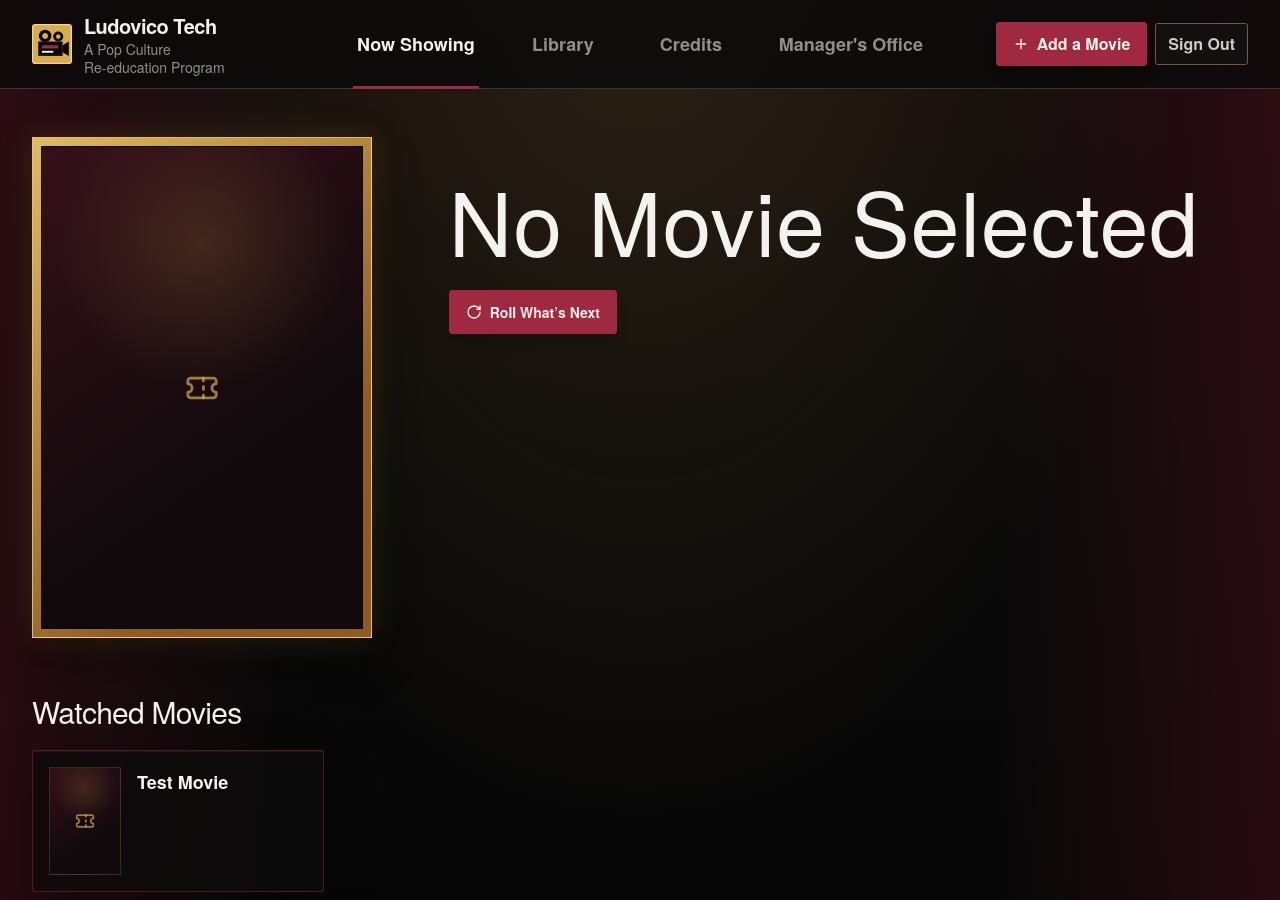
it: application authorization presentation › keeps add-movie failures visible and dismissible above the open dialog
The width and height of the screenshot is (1280, 900).
Click the button "Add a Movie" at [1072, 44], box [996,22,1147,66]
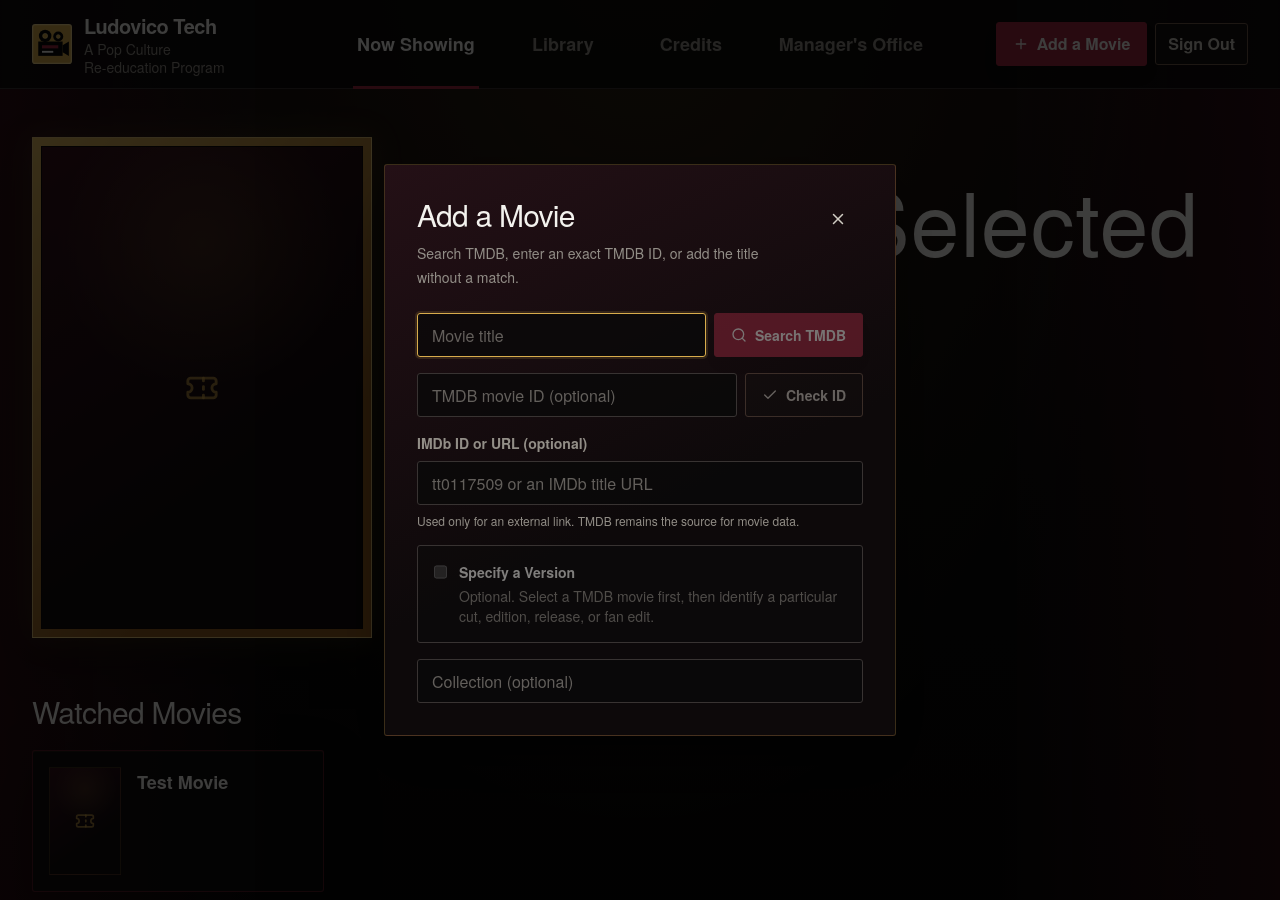
Type "Existing TMDB Movie" into the field labelled "Movie title" at [562, 335], box [417,313,706,357]
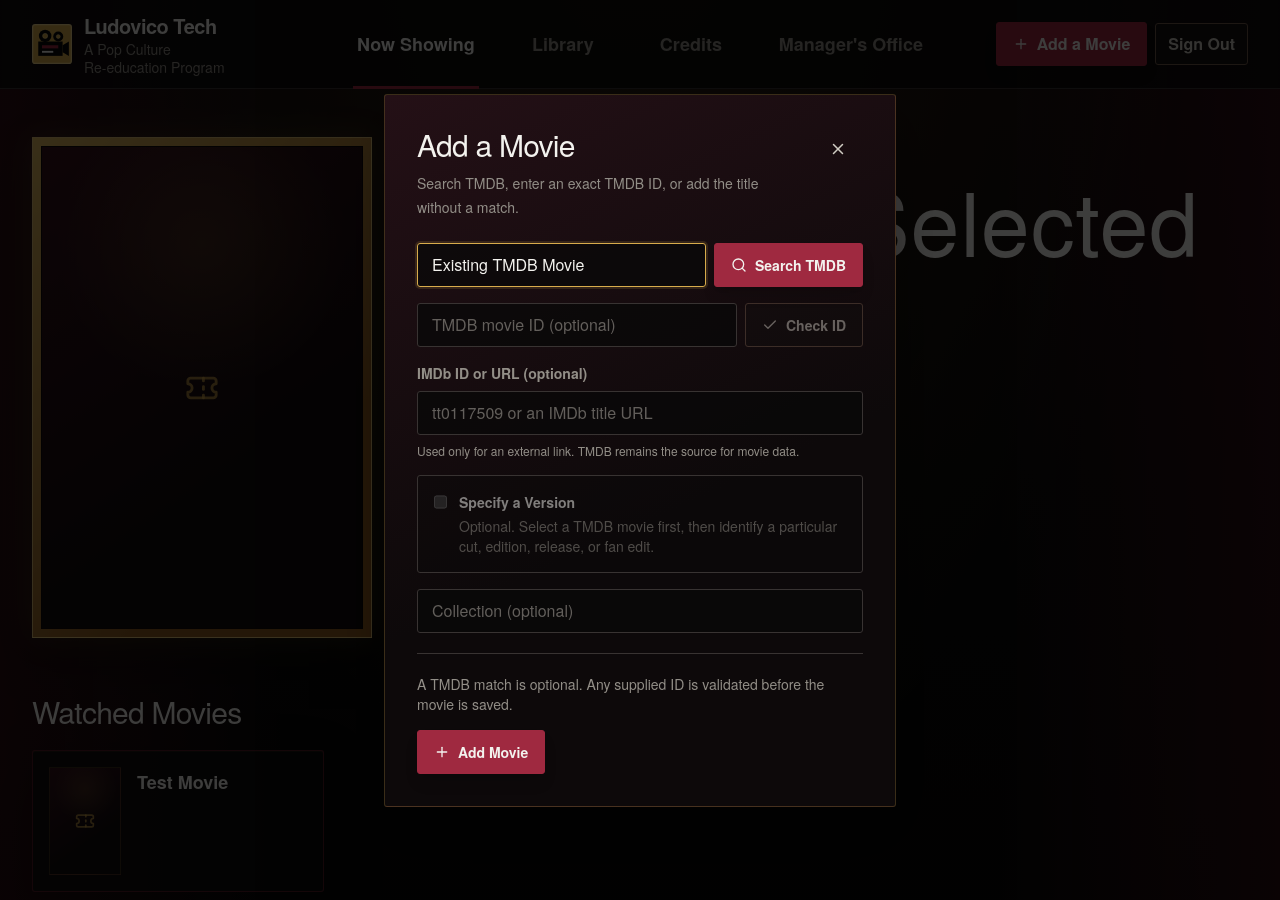
Click the button "Add Movie" at [481, 752], box [417,730,545,774]
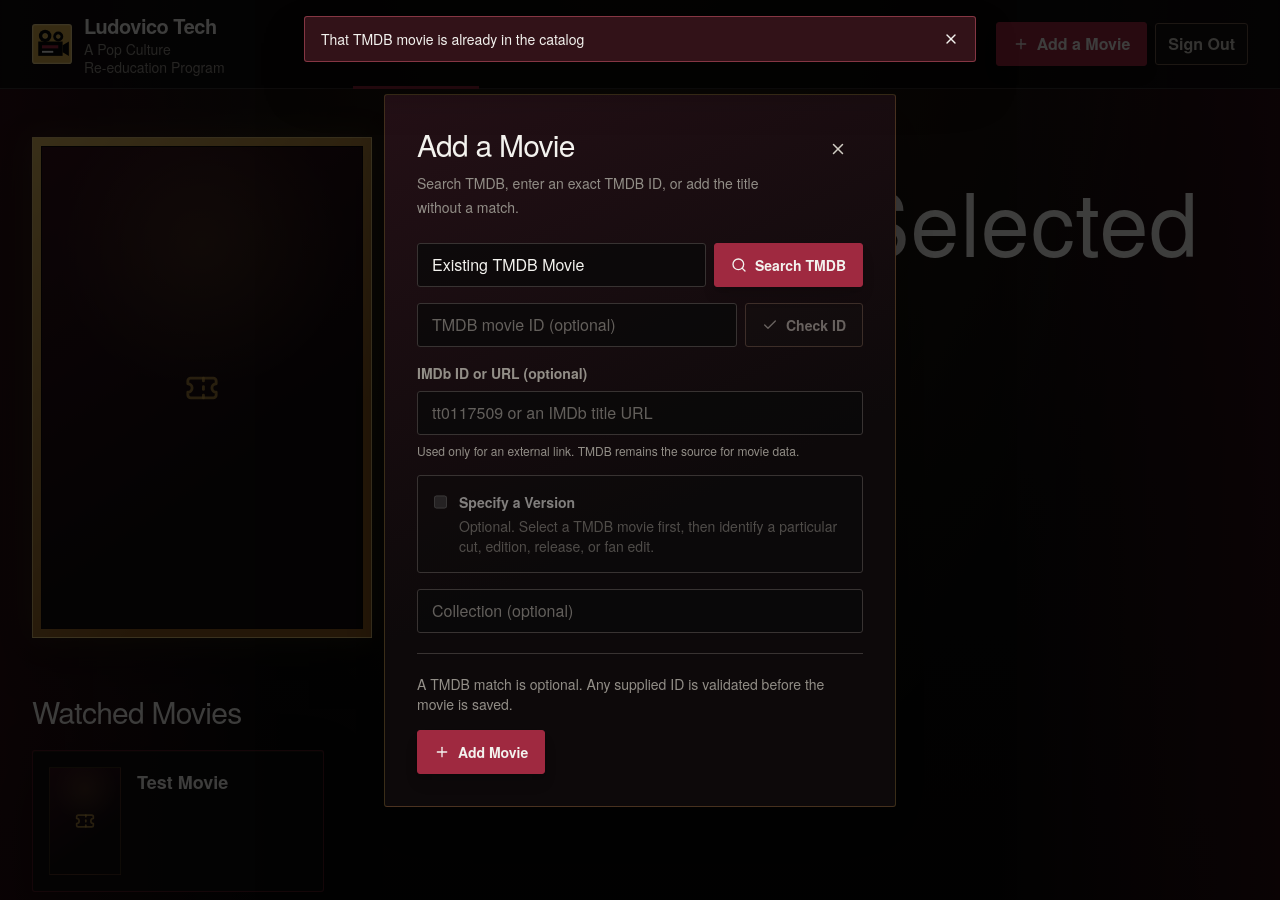
Result: the dialog "Add a Movie" is shown at [384,94,896,806]
Result: the message reads "That TMDB movie is already in the catalog" at [321,29,584,49]
Click the button named "Dismiss Error" at [951, 39], box [943,31,959,47]
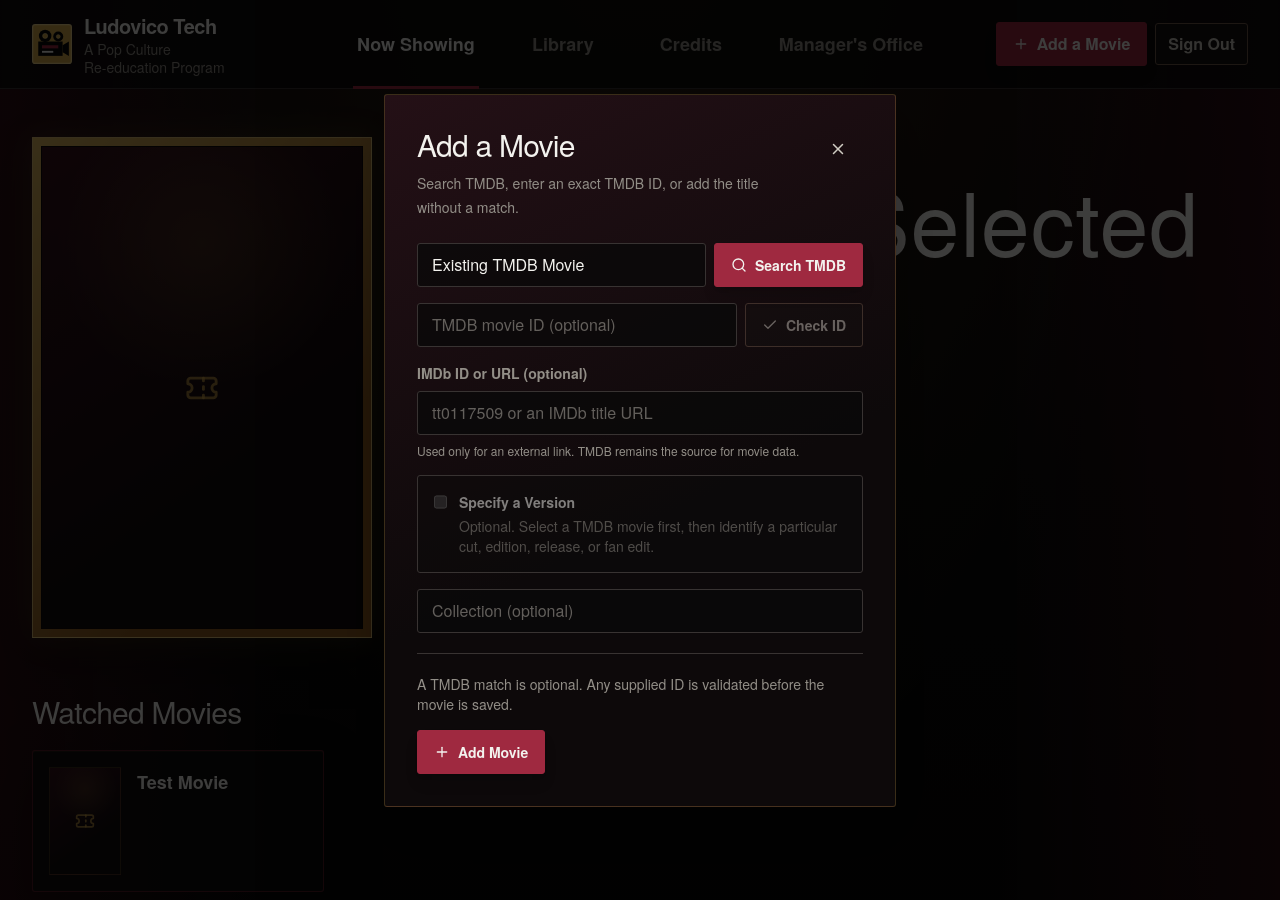
Result: the dialog "Add a Movie" is shown at [384,94,896,806]
Result: the message "That TMDB movie is already in the catalog" is gone
